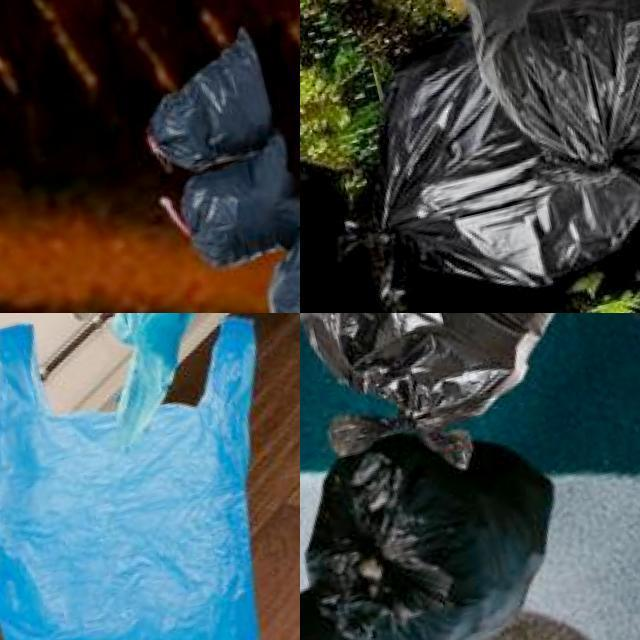waste: (0, 313, 300, 640), (328, 0, 640, 313), (300, 412, 577, 640), (300, 313, 627, 477), (455, 0, 640, 167), (134, 39, 286, 177), (170, 137, 300, 267), (300, 555, 489, 640), (242, 190, 300, 313)
